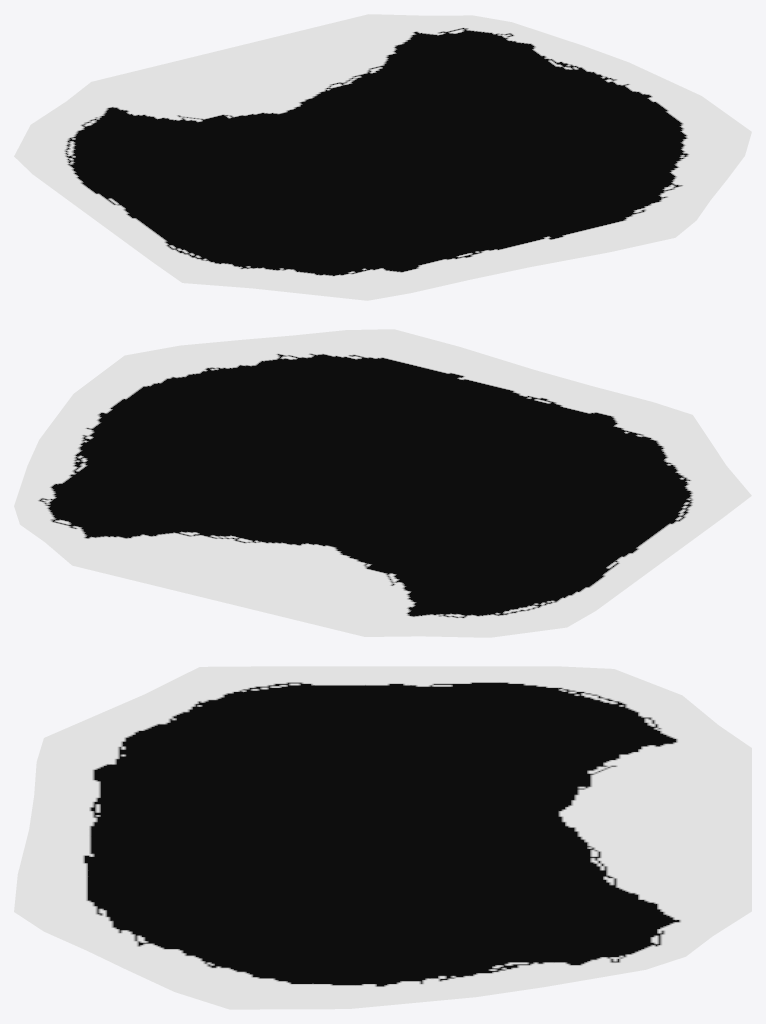
The model's file is Pool.fbx.
The picture shows the model from 3 angles, top to bottom: view 1: azimuth 30°, elevation 25°; view 2: azimuth 150°, elevation 25°; view 3: azimuth 270°, elevation 25°; orthographic projection. The views are drawn at different scales.
Visible parts, largest first — view 1: Plane; view 2: Plane; view 3: Plane.
Boxes of the visible parts, <box> form: Plane: <box>14,14,751,300</box>; Plane: <box>14,329,751,637</box>; Plane: <box>14,666,751,1009</box>.
Size of the model in its own units: 5439 by 0.000805 by 4941.
Materials: 1 (1 with a texture image).
